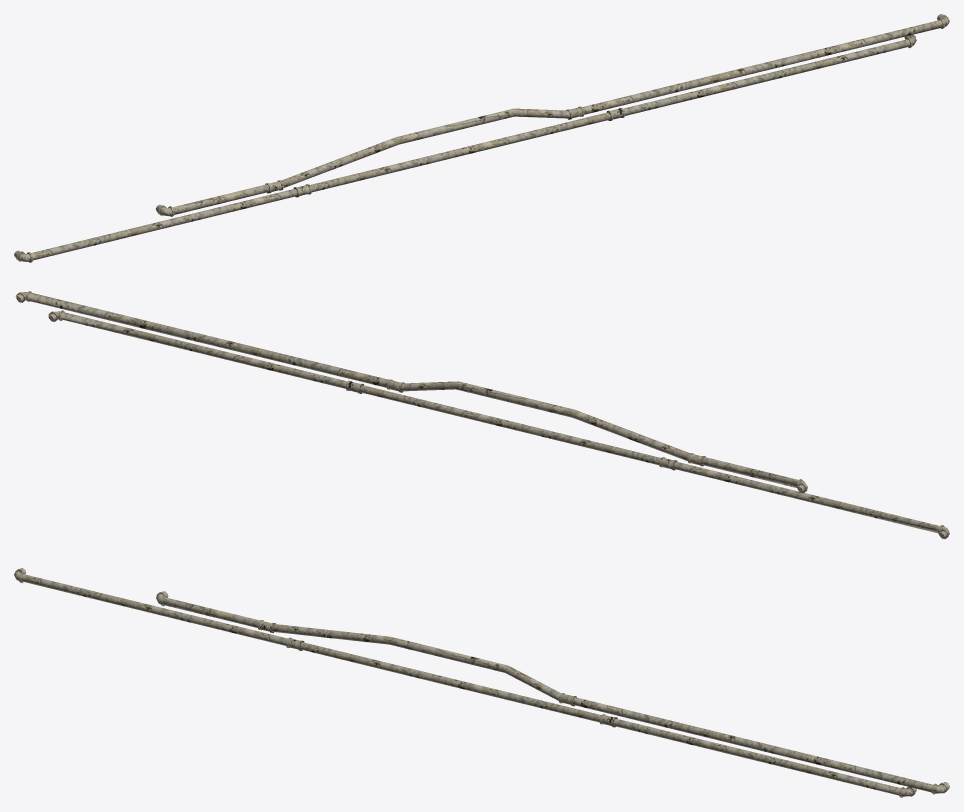
Rendered from prison_pipes001a.glb.
3 views of the same model, one above another, from view 1: azimuth 30°, elevation 25°; view 2: azimuth 150°, elevation 25°; view 3: azimuth 330°, elevation 25° (orthographic).
Visible parts, largest first — view 1: 0_prison_objects004; view 2: 0_prison_objects004; view 3: 0_prison_objects004.
Boxes of the visible parts, x1,y1,x2,y2 form: 0_prison_objects004: (14,14,949,262); 0_prison_objects004: (15,291,949,538); 0_prison_objects004: (14,568,949,797).
Size of the model in its own units: 13 by 0.4747 by 0.2192.
Materials: 1 (1 with a texture image).
